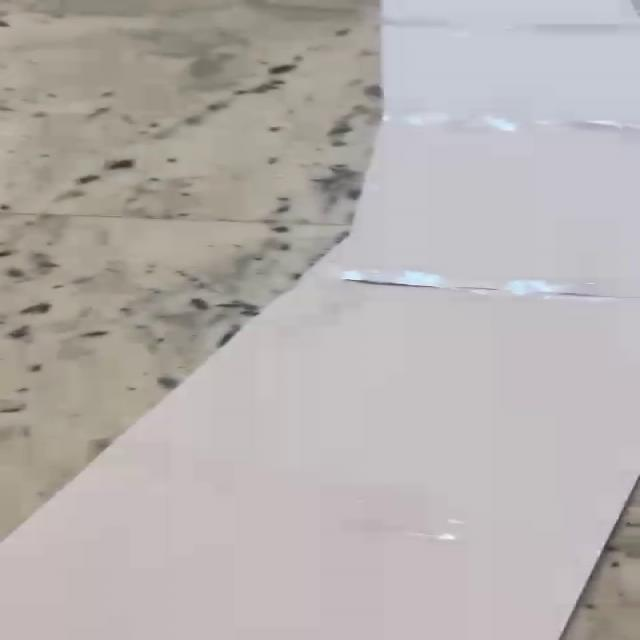road: (0, 0, 640, 640)
